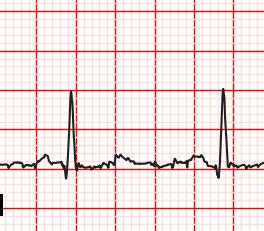Pathological Q Wave: (57, 158, 75, 182)
